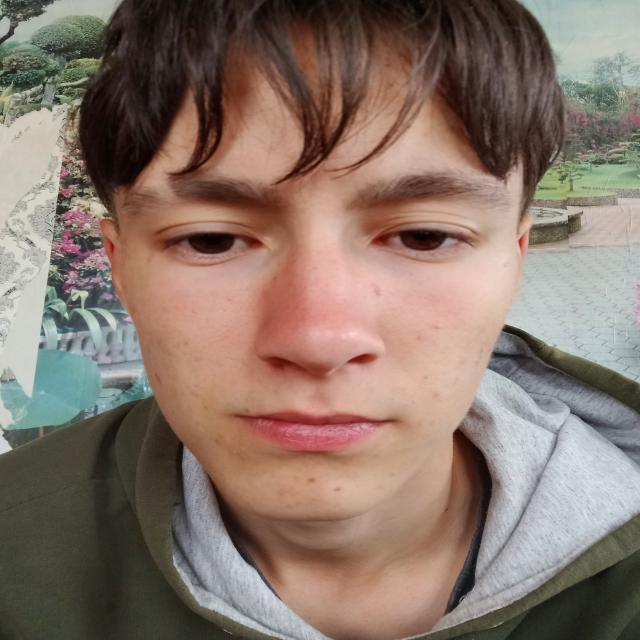Acne: (149, 370, 167, 388), (372, 280, 382, 300)
Blackheads: (168, 338, 204, 364), (412, 323, 448, 342), (421, 374, 444, 402), (449, 355, 467, 386), (470, 346, 485, 368)
